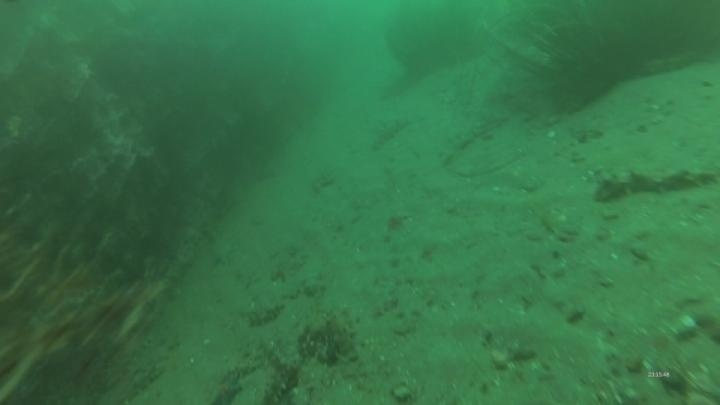holothurian: (589, 157, 718, 207), (300, 305, 366, 367), (257, 358, 302, 405), (366, 114, 412, 153), (247, 299, 290, 324)
starfish: (206, 371, 245, 405)
